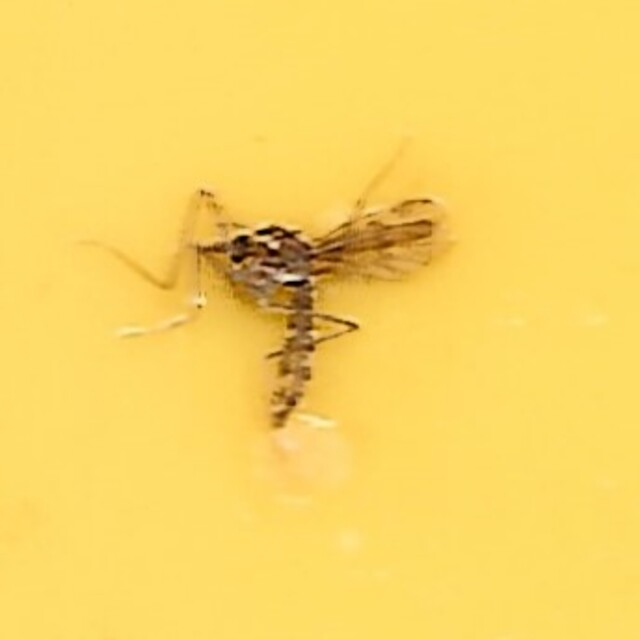Nematocera: (186, 189, 454, 451)
